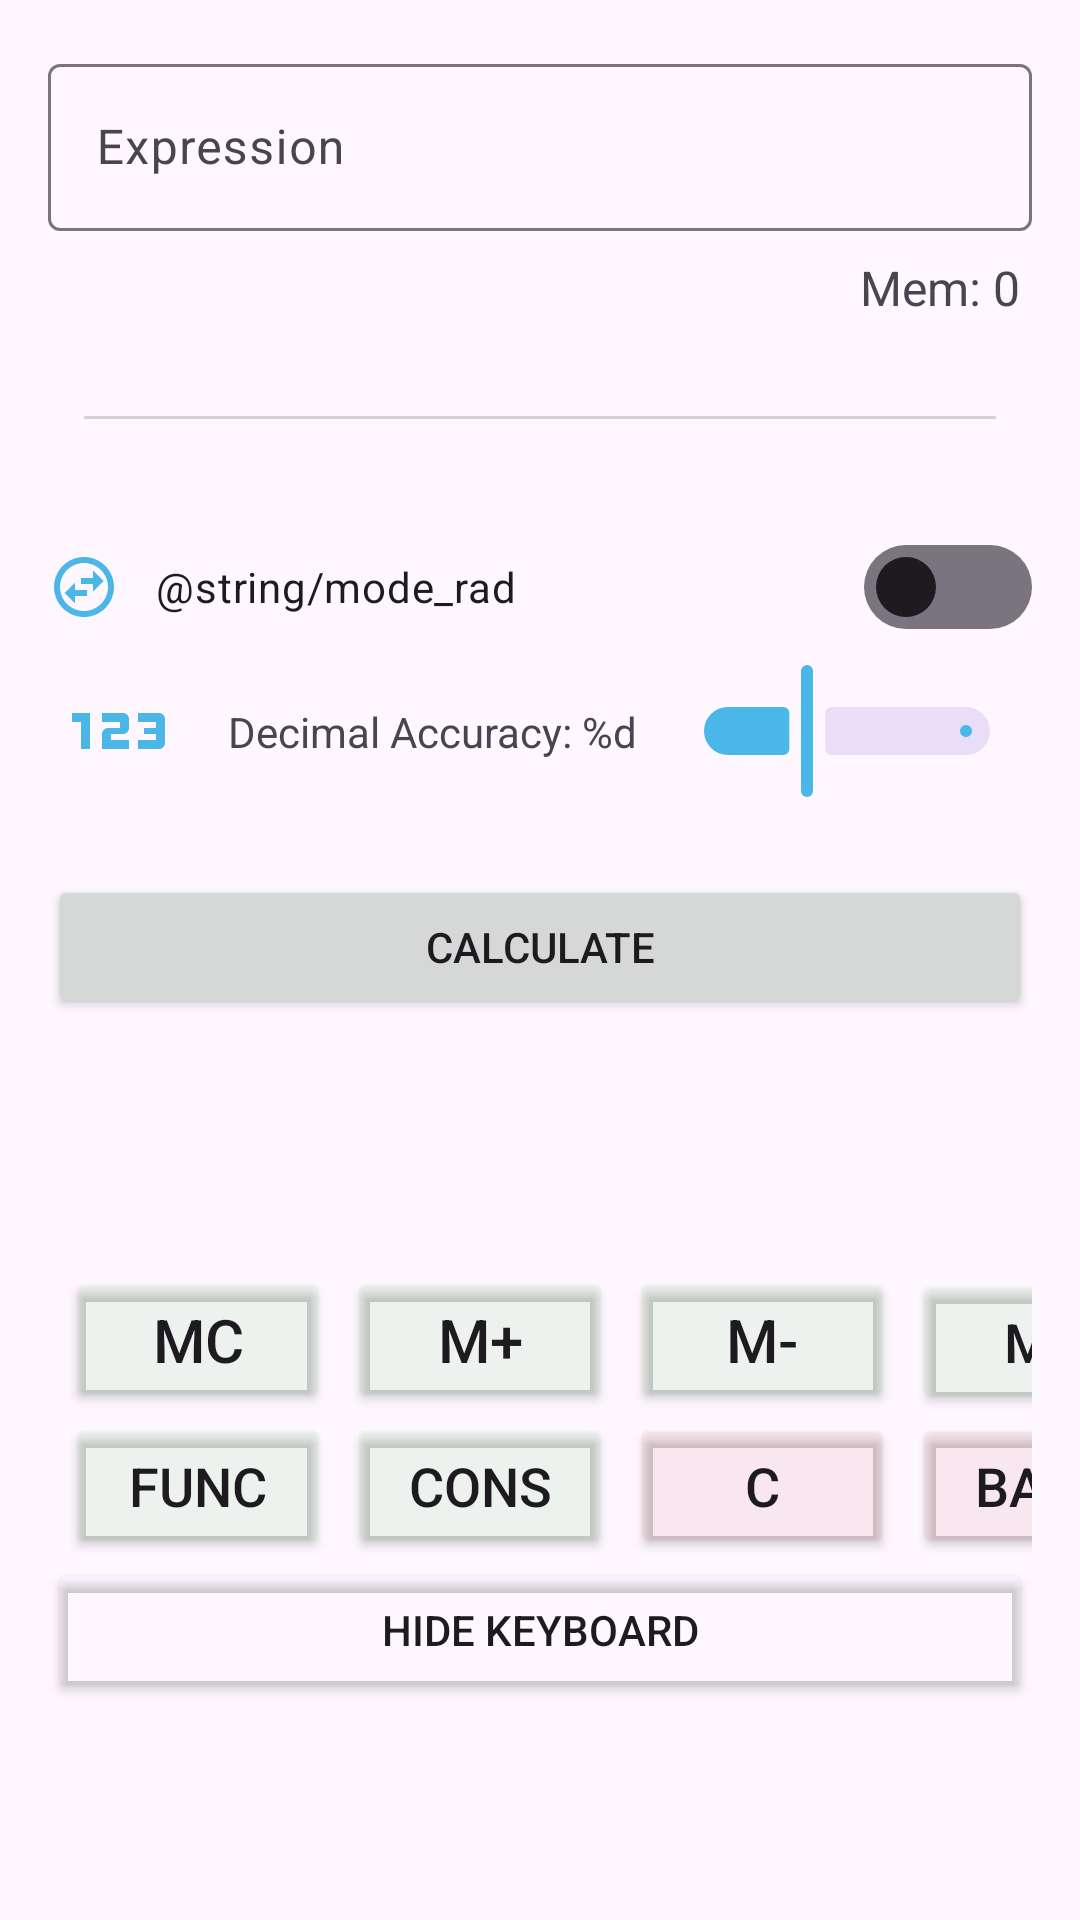

Where icons sit on this 1080 x 1920 app screen, as (x1, y1, x2, y2):
mode select: (54, 557, 114, 617)
